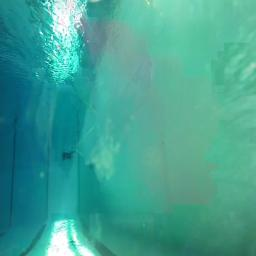Full: (62, 150, 76, 161)
